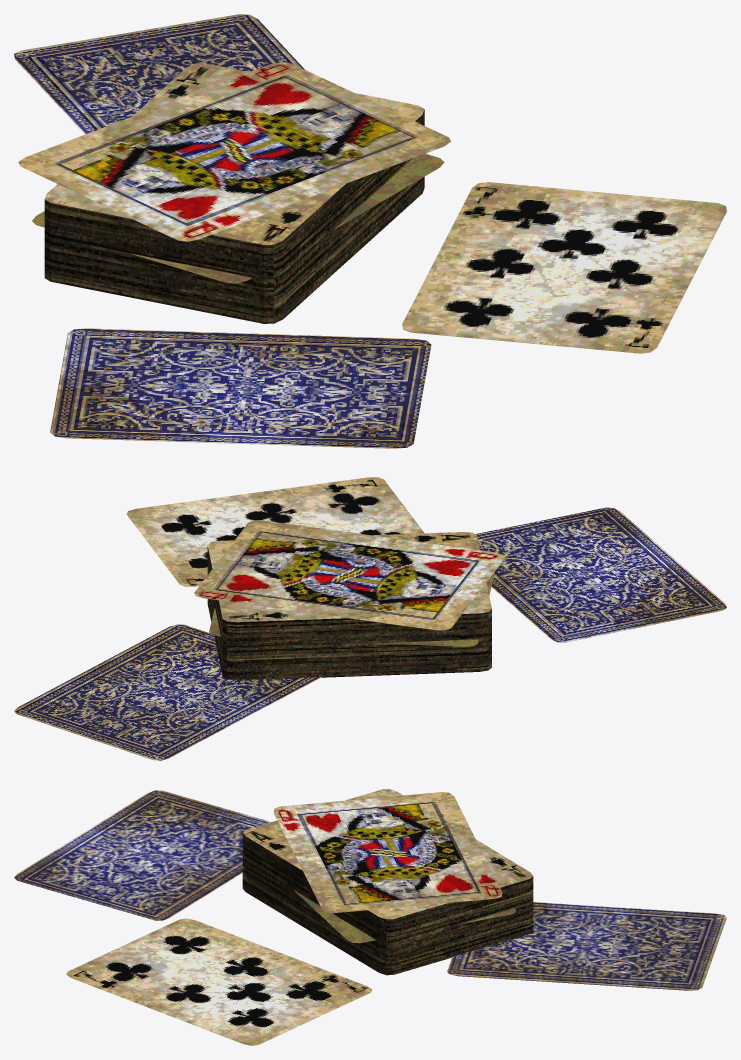
Rendered from PlayingCards.fbx.
3 views of the same model, one above another, from view 1: azimuth 30°, elevation 25°; view 2: azimuth 150°, elevation 25°; view 3: azimuth 270°, elevation 25° (orthographic). The views are drawn at different scales.
Visible parts, largest first — view 1: Cube.003; view 2: Cube.003; view 3: Cube.003.
Part boxes in pixels (left/top/right/bottom): Cube.003: left=14, top=14, right=726, bottom=448; Cube.003: left=14, top=477, right=726, bottom=760; Cube.003: left=14, top=789, right=726, bottom=1045.
Size of the model in its own units: 24.55 by 2.57 by 28.96.
Materials: 1 (1 with a texture image).
